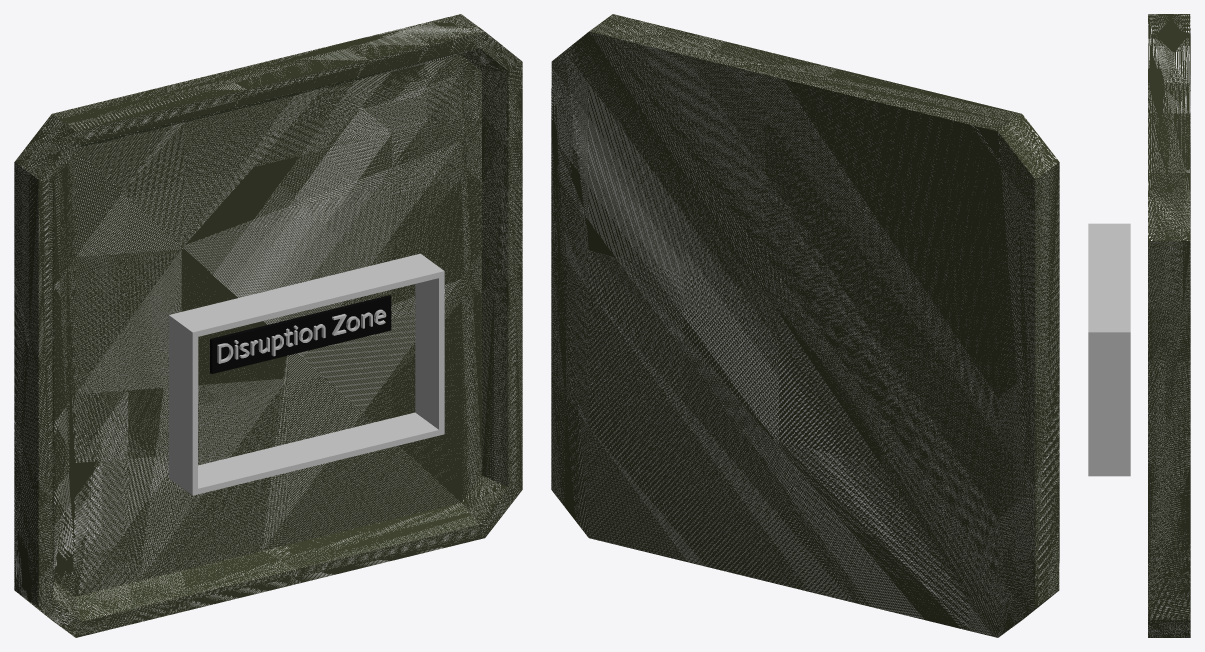
The model's file is CM_-_Disruption_Zone.obj.
3 renders of one model, left to right at view 1: azimuth 30°, elevation 25°; view 2: azimuth 150°, elevation 25°; view 3: azimuth 270°, elevation 25°, orthographic. The views are drawn at different scales.
Visible parts, largest first — view 1: Button.001_ID13, Button_ID3, SM_CM_-_Disruption_Zone_path1763-2.081; view 2: Button_ID3; view 3: Button_ID3, SM_CM_-_Disruption_Zone_path1763-2.081.
Boxes of the visible parts, box(x1,y1,x2,y2) form: Button.001_ID13: box(52, 48, 508, 621); Button_ID3: box(14, 14, 522, 637); SM_CM_-_Disruption_Zone_path1763-2.081: box(168, 253, 444, 495); Button_ID3: box(551, 14, 1059, 637); Button_ID3: box(1148, 14, 1190, 637); SM_CM_-_Disruption_Zone_path1763-2.081: box(1088, 223, 1130, 476).
Size of the model in its own units: 1 by 1 by 0.207.
